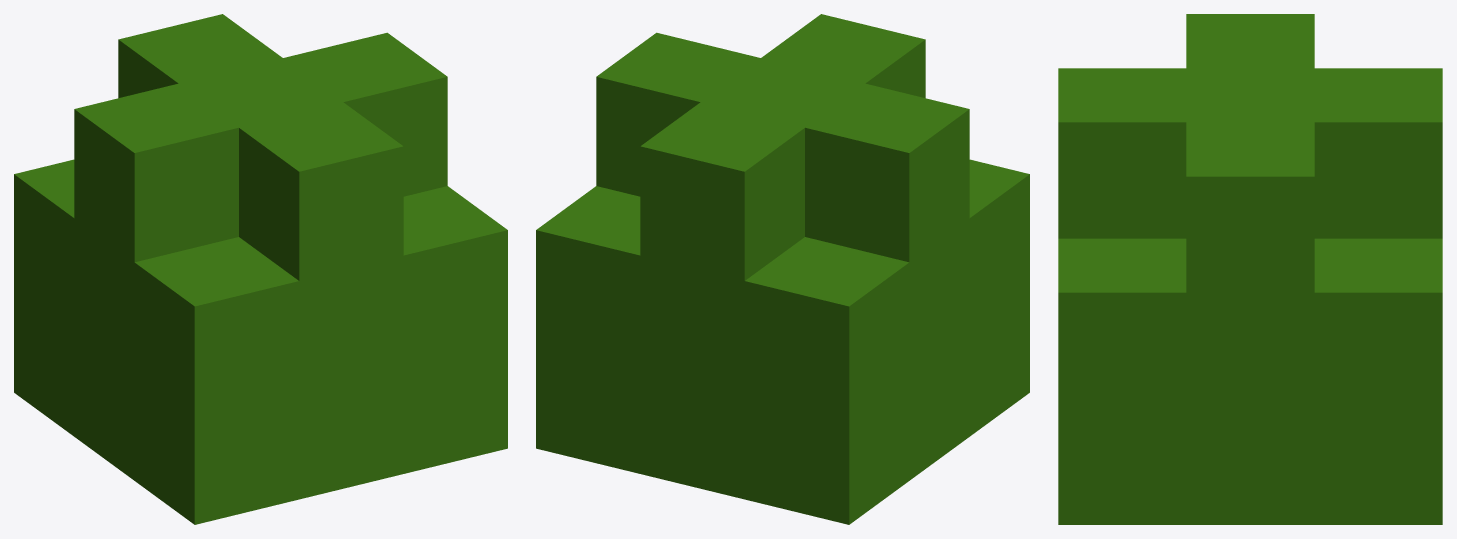
The model's file is pops c.fbx.
The picture shows the model from 3 angles, left to right: view 1: azimuth 30°, elevation 25°; view 2: azimuth 150°, elevation 25°; view 3: azimuth 270°, elevation 25°; orthographic projection. The views are drawn at different scales.
Parts seen in each view (by area): view 1: pops B co; view 2: pops B co; view 3: pops B co.
Boxes of the visible parts, bbox=[...] form: pops B co: bbox=[14, 14, 507, 524]; pops B co: bbox=[536, 14, 1029, 524]; pops B co: bbox=[1058, 14, 1442, 524].
Size of the model in its own units: 54.37 by 54.37 by 54.37.
